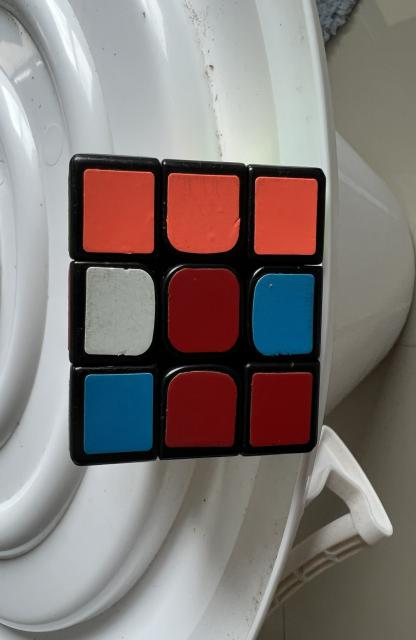Blue: (83, 372, 154, 454), (252, 274, 314, 355)
Orange: (83, 169, 155, 254), (167, 172, 240, 254), (255, 176, 317, 255)
Red: (168, 269, 239, 352), (166, 371, 237, 448), (250, 372, 313, 448)
White: (84, 266, 155, 355)
